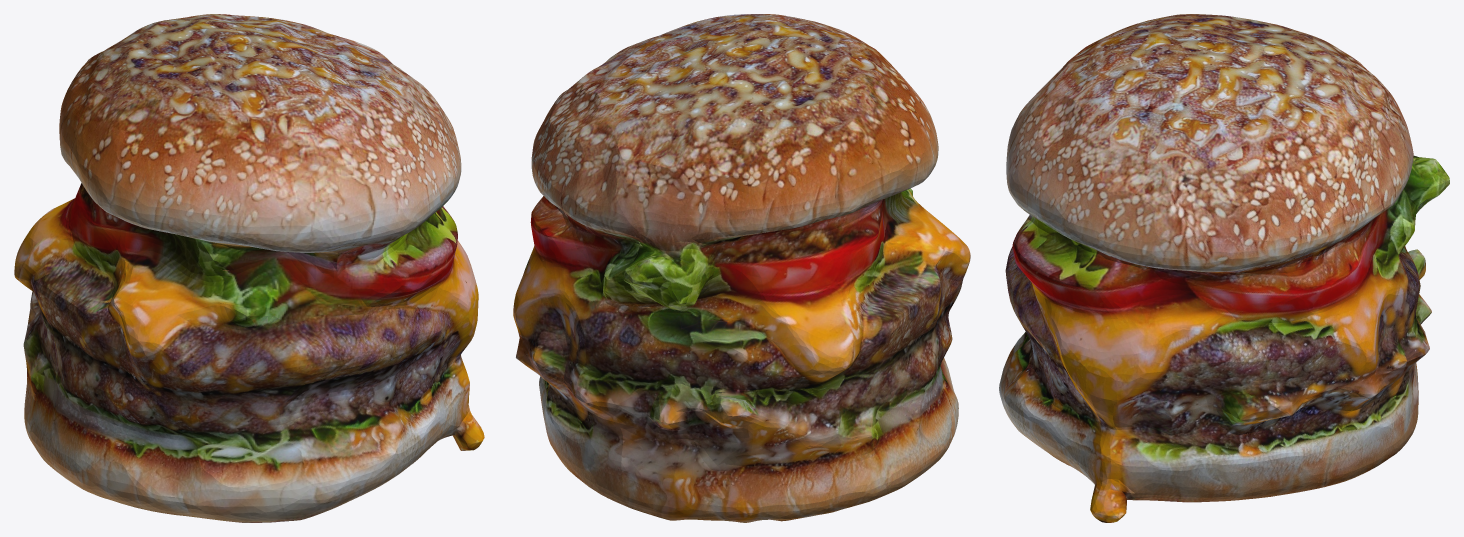
The model's file is burger.glb.
3 views of the same model, side by side, from view 1: azimuth 30°, elevation 25°; view 2: azimuth 150°, elevation 25°; view 3: azimuth 270°, elevation 25° (orthographic). The views are drawn at different scales.
Parts seen in each view (by area): view 1: MenuVision_Fit; view 2: MenuVision_Fit; view 3: MenuVision_Fit.
Boxes of the visible parts, bbox=[...] form: MenuVision_Fit: bbox=[14, 14, 484, 522]; MenuVision_Fit: bbox=[513, 14, 970, 522]; MenuVision_Fit: bbox=[999, 14, 1449, 522].
Size of the model in its own units: 0.1092 by 0.1112 by 0.115.
Materials: 1 (1 with a texture image).
